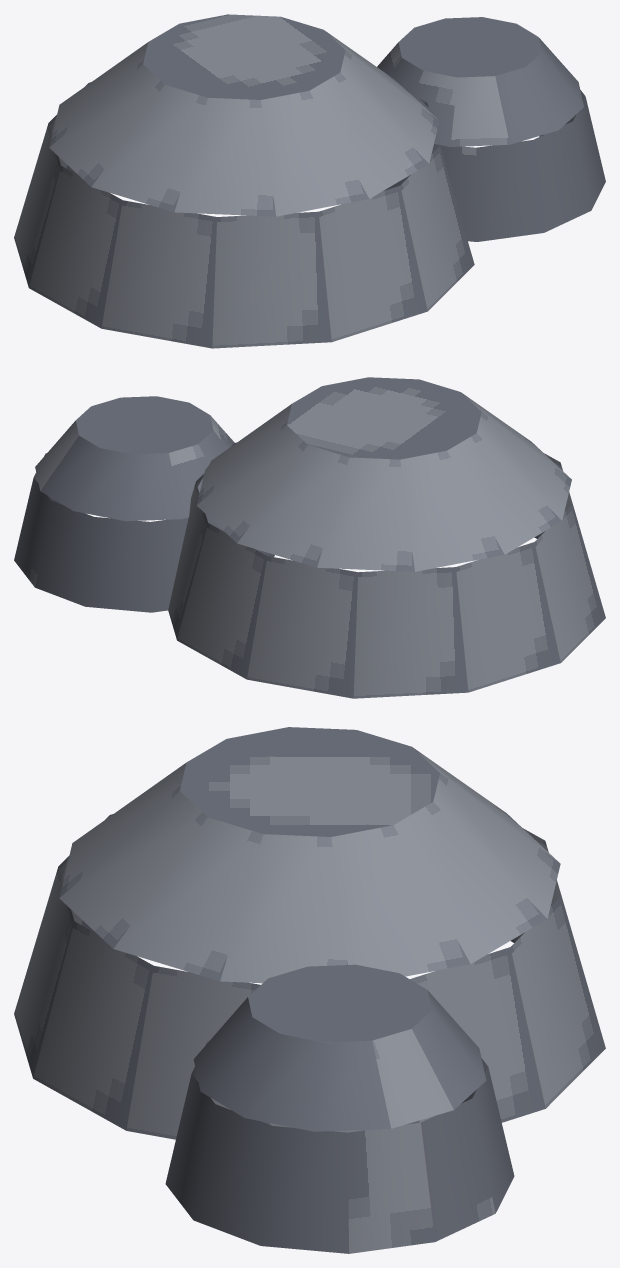
Rendered from rock_6.glb.
3 views of the same model, one above another, from view 1: azimuth 30°, elevation 25°; view 2: azimuth 150°, elevation 25°; view 3: azimuth 270°, elevation 25° (orthographic). The views are drawn at different scales.
Visible parts, largest first — view 1: rock_7; view 2: rock_7; view 3: rock_7.
Boxes of the visible parts, x1,y1,x2,y2 form: rock_7: [14, 14, 605, 348]; rock_7: [14, 377, 605, 698]; rock_7: [14, 727, 605, 1253].
Bounding box in the file's own units: 1.28 × 0.4272 × 0.9197.
Materials: 1 (1 with a texture image).
